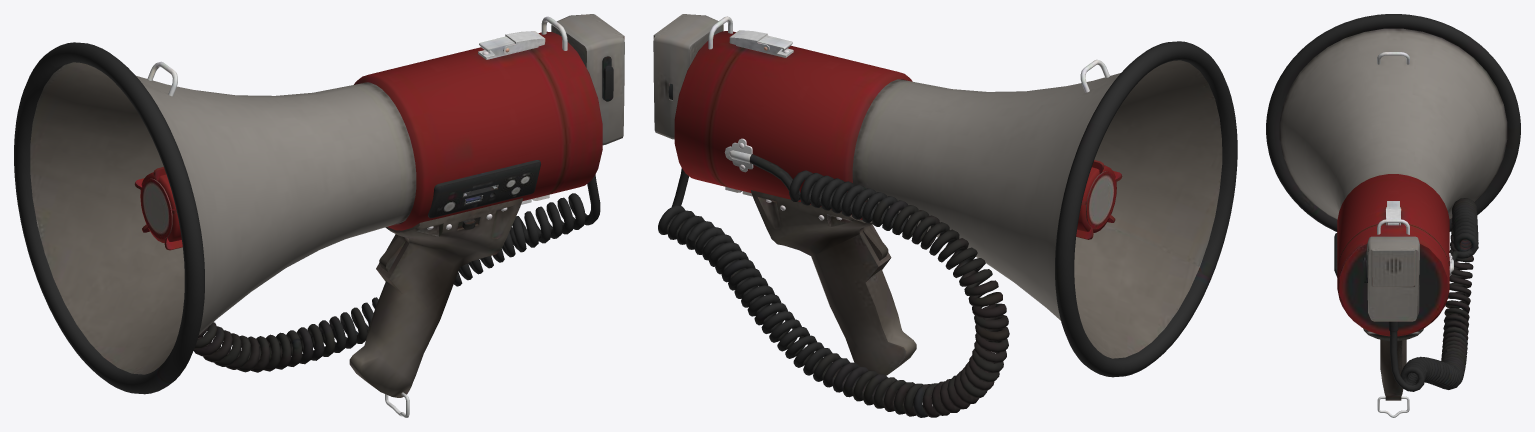
Rendered from megaphone.glb.
The picture shows the model from 3 angles, left to right: view 1: azimuth 30°, elevation 25°; view 2: azimuth 150°, elevation 25°; view 3: azimuth 270°, elevation 25°; orthographic projection. The views are drawn at different scales.
Visible parts, largest first — view 1: Megaphone_01; view 2: Megaphone_01; view 3: Megaphone_01.
Part boxes in pixels (box(x1,y1,x2,y2)): Megaphone_01: box(14, 14, 624, 417); Megaphone_01: box(653, 14, 1237, 417); Megaphone_01: box(1266, 14, 1520, 417).
Bounding box in the file's own units: 0.3707 × 0.3001 × 0.2284.
1 material, 1 textured.
